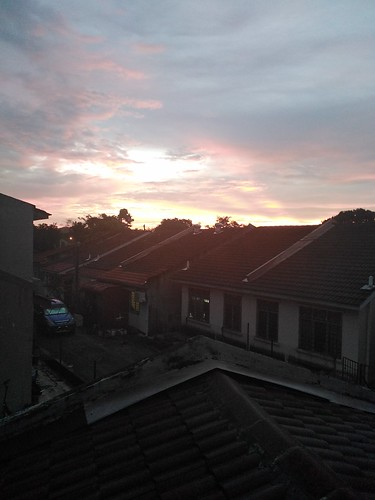building: (13, 335, 375, 500), (180, 216, 375, 367), (105, 217, 204, 339), (33, 218, 110, 325)
car: (34, 293, 79, 338)
sky: (1, 1, 368, 211)
